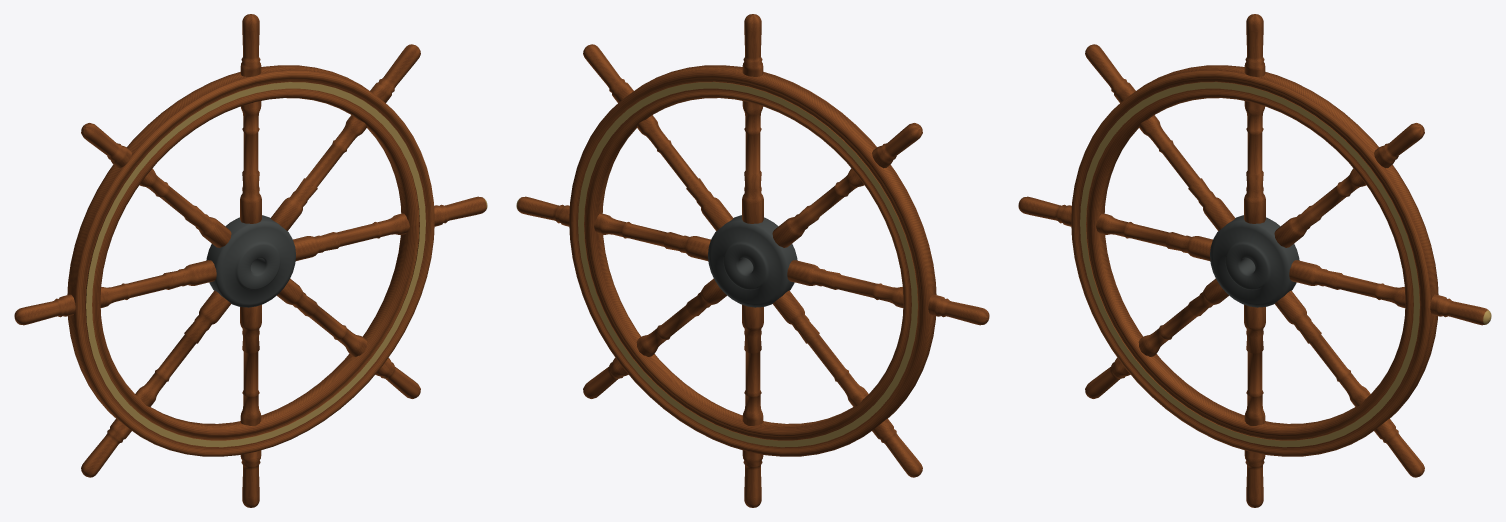
Rendered from NEW451_ship_helm_LOD2.glb.
3 views of the same model, side by side, from view 1: azimuth 30°, elevation 25°; view 2: azimuth 150°, elevation 25°; view 3: azimuth 330°, elevation 25° (orthographic).
Visible parts, largest first — view 1: Rim_Continuous_Moulded, Hub_Cast_Through_Bore, Spindle_Handle_05, Spindle_Handle_01, Spindle_Handle_02, Spindle_Handle_04, Spindle_Handle_06, Spindle_Handle_00, Spindle_Handle_03, Spindle_Handle_07; view 2: Rim_Continuous_Moulded, Hub_Cast_Through_Bore, Spindle_Handle_05, Spindle_Handle_01, Spindle_Handle_02, Spindle_Handle_04, Spindle_Handle_06, Spindle_Handle_00, Spindle_Handle_03, Spindle_Handle_07; view 3: Rim_Continuous_Moulded, Hub_Cast_Through_Bore, Spindle_Handle_07, Spindle_Handle_03, Spindle_Handle_02, Spindle_Handle_00, Spindle_Handle_06, Spindle_Handle_04, Spindle_Handle_01, Spindle_Handle_05.
Boxes of the visible parts, x1,y1,x2,y2 form: Rim_Continuous_Moulded: [67, 65, 434, 456]; Hub_Cast_Through_Bore: [206, 215, 295, 307]; Spindle_Handle_05: [81, 290, 230, 477]; Spindle_Handle_01: [270, 44, 420, 230]; Spindle_Handle_02: [240, 14, 261, 223]; Spindle_Handle_04: [14, 260, 216, 325]; Spindle_Handle_06: [240, 304, 261, 507]; Spindle_Handle_00: [293, 196, 487, 260]; Spindle_Handle_03: [81, 123, 231, 247]; Spindle_Handle_07: [277, 278, 420, 398]; Rim_Continuous_Moulded: [569, 65, 936, 456]; Hub_Cast_Through_Bore: [708, 215, 797, 307]; Spindle_Handle_05: [773, 290, 922, 477]; Spindle_Handle_01: [583, 44, 733, 230]; Spindle_Handle_02: [742, 14, 763, 223]; Spindle_Handle_04: [787, 260, 989, 325]; Spindle_Handle_06: [742, 304, 763, 507]; Spindle_Handle_00: [516, 196, 710, 260]; Spindle_Handle_03: [772, 123, 922, 247]; Spindle_Handle_07: [583, 278, 726, 398]; Rim_Continuous_Moulded: [1071, 65, 1438, 456]; Hub_Cast_Through_Bore: [1210, 215, 1299, 307]; Spindle_Handle_07: [1275, 290, 1424, 477]; Spindle_Handle_03: [1085, 44, 1235, 230]; Spindle_Handle_02: [1244, 14, 1265, 223]; Spindle_Handle_00: [1289, 260, 1491, 325]; Spindle_Handle_06: [1244, 304, 1265, 507]; Spindle_Handle_04: [1018, 196, 1212, 260]; Spindle_Handle_01: [1274, 123, 1424, 247]; Spindle_Handle_05: [1085, 278, 1228, 398].
Size of the model in its own units: 1.25 by 1.25 by 0.075.
Materials: 3 (1 with a texture image).
